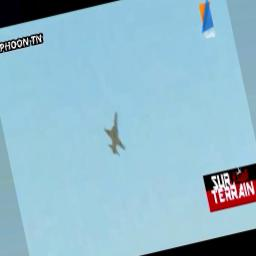Airplane: (104, 111, 126, 157)
